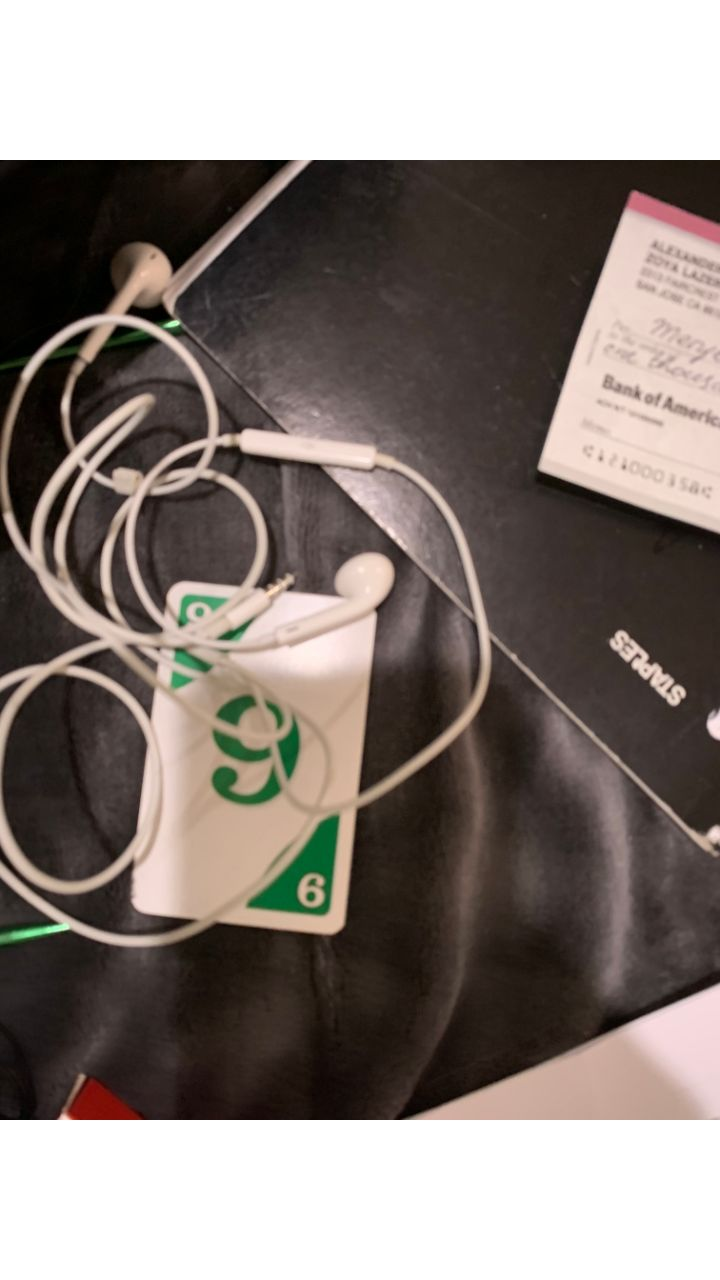nine: (135, 582, 377, 933)
